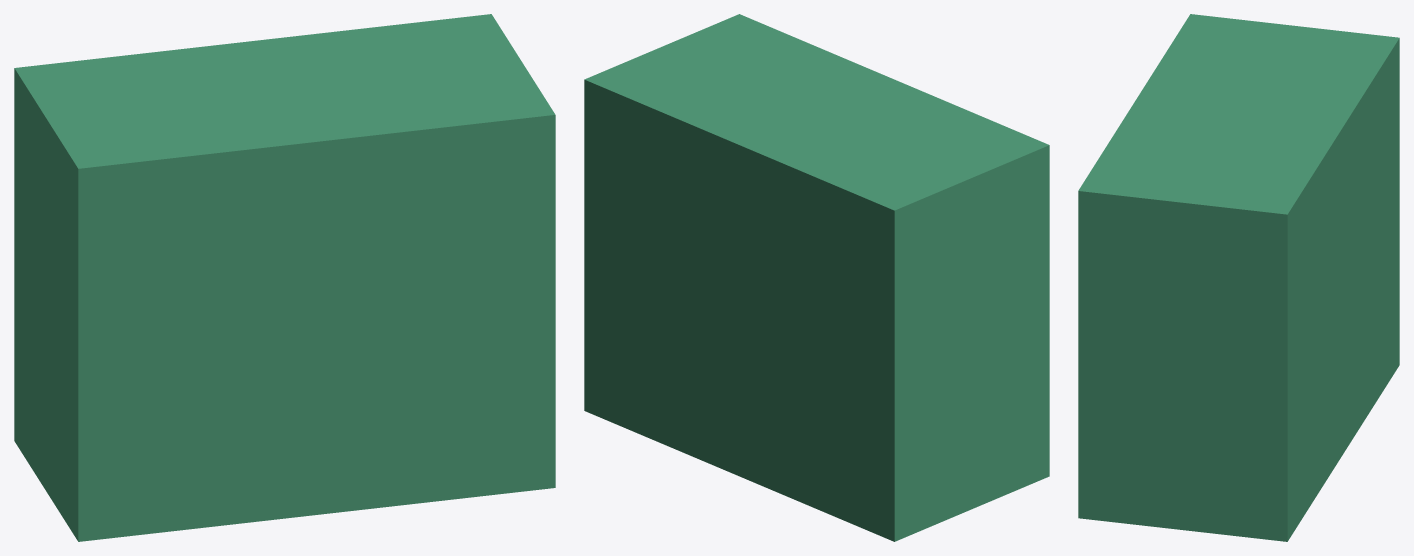
The model's file is SM_Tool_alignment.glb.
3 views of the same model, side by side, from view 1: azimuth 30°, elevation 25°; view 2: azimuth 150°, elevation 25°; view 3: azimuth 270°, elevation 25° (orthographic). The views are drawn at different scales.
Parts seen in each view (by area): view 1: SM_Tool_alignment; view 2: SM_Tool_alignment; view 3: SM_Tool_alignment.
Part boxes in pixels (bbox=[...]): SM_Tool_alignment: bbox=[14, 14, 555, 541]; SM_Tool_alignment: bbox=[584, 14, 1049, 541]; SM_Tool_alignment: bbox=[1078, 14, 1399, 541].
Size of the model in its own units: 1.31 by 1 by 0.8901.
